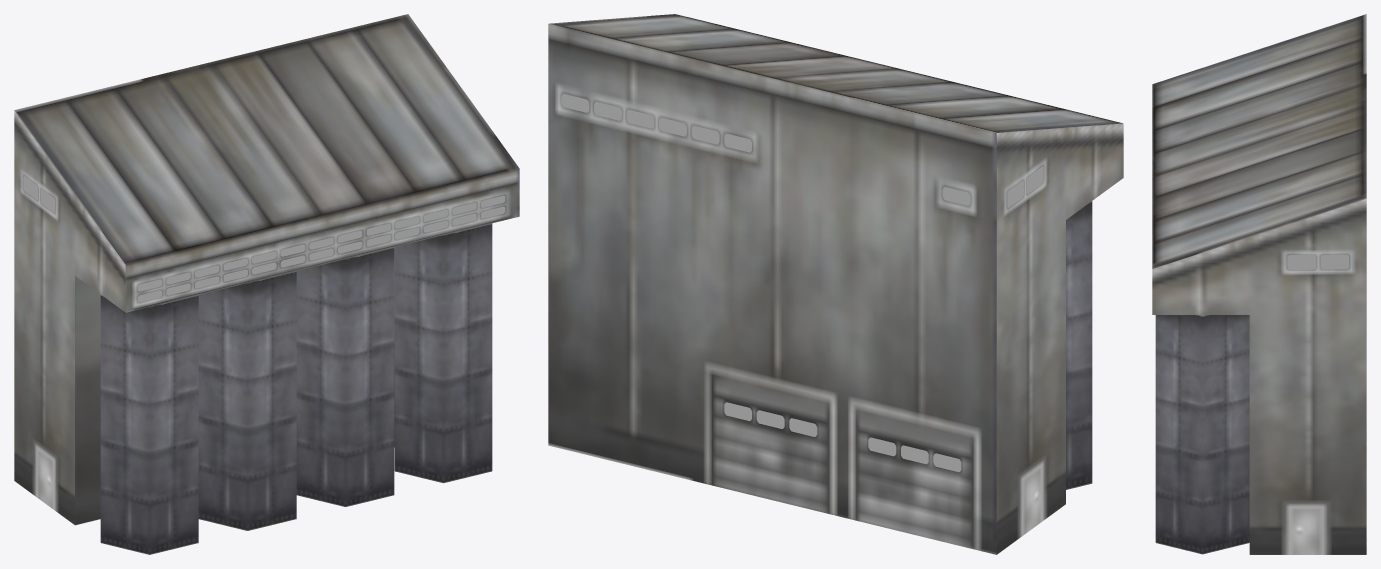
File: grainstorage.glb
The picture shows the model from 3 angles, left to right: view 1: azimuth 30°, elevation 25°; view 2: azimuth 150°, elevation 25°; view 3: azimuth 270°, elevation 25°; orthographic projection. The views are drawn at different scales.
Visible parts, largest first — view 1: GrainStorage, LitWin_GrainStorage; view 2: GrainStorage, LitWin_GrainStorage; view 3: GrainStorage, LitWin_GrainStorage.
Part boxes in pixels (x1,y1,x2,y2): GrainStorage: [14, 14, 519, 554]; LitWin_GrainStorage: [23, 176, 505, 302]; GrainStorage: [548, 14, 1123, 554]; LitWin_GrainStorage: [561, 94, 1043, 472]; GrainStorage: [1152, 14, 1366, 554]; LitWin_GrainStorage: [1287, 254, 1348, 269].
Bounding box in the file's own units: 16.86 × 15.16 × 8.26.
Materials: 1 (1 with a texture image).
